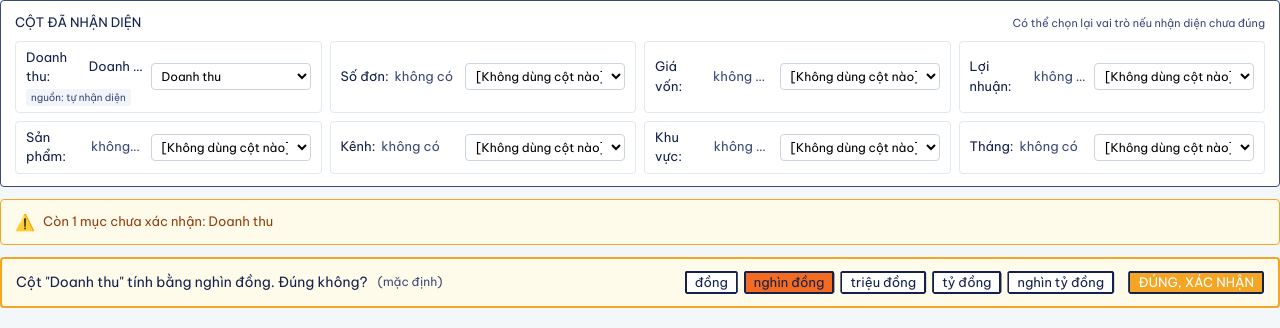
Test: Prompt 1C-2a-UI Verification Suite (Phần C & E1) › 4. Changing Selection Resets Confirmation (C1) › reverts to unconfirmed when a different unit or convention is selected
Click the button "ĐÚNG, XÁC NHẬN" at coordinates (1196, 282), box [1128,270,1264,294]
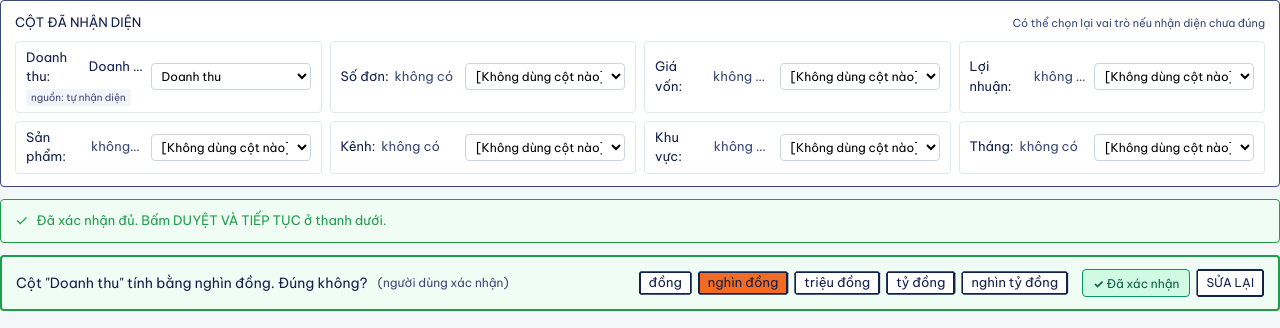
Result: the button "✓ Đã xác nhận" is shown at [1082,269,1190,297]
Result: the text "Đã xác nhận đủ. Bấm DUYỆT VÀ TIẾP TỤC ở thanh dưới." is shown at [36,211,387,230]
Click the button "triệu đồng" at coordinates (837, 283), box [794,271,880,295]
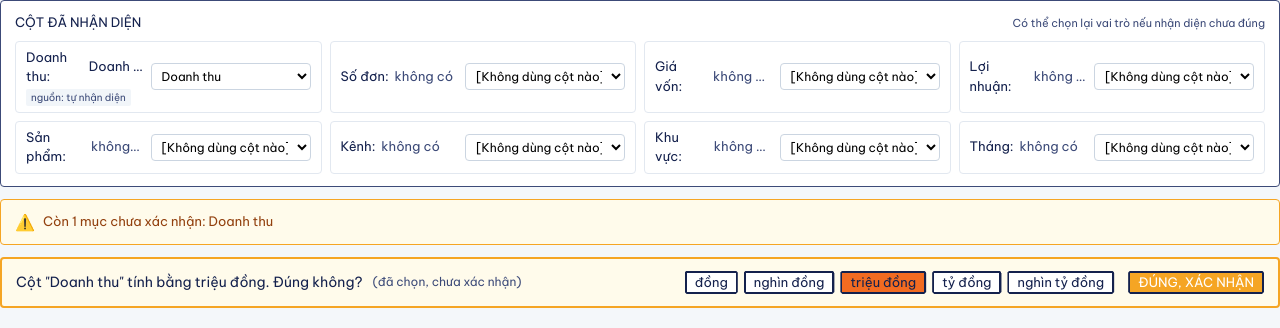
Result: the button "ĐÚNG, XÁC NHẬN" is shown at [1128,270,1264,294]
Result: the text "Còn 1 mục chưa xác nhận: Doanh thu" is shown at [43,212,273,231]
